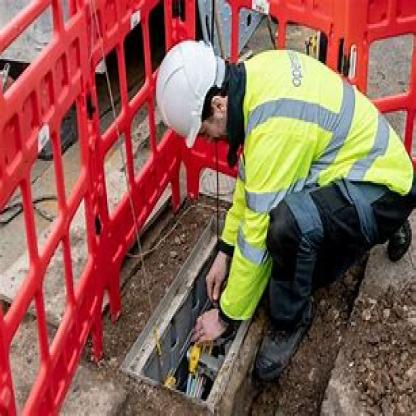person: (156, 30, 414, 398)
